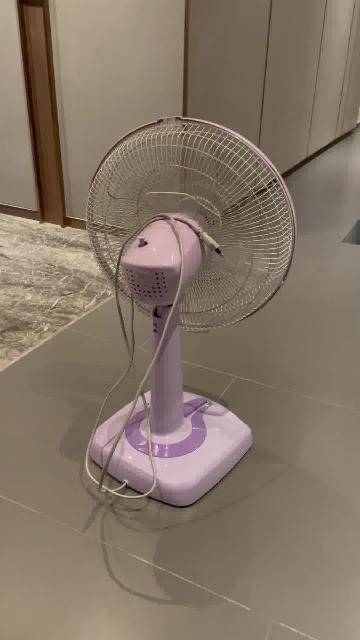Fan: (86, 118, 297, 510)
